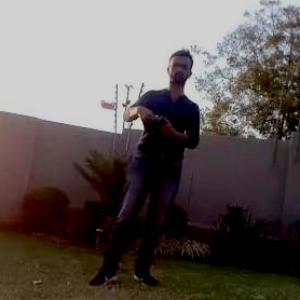follow: (83, 40, 204, 290)
